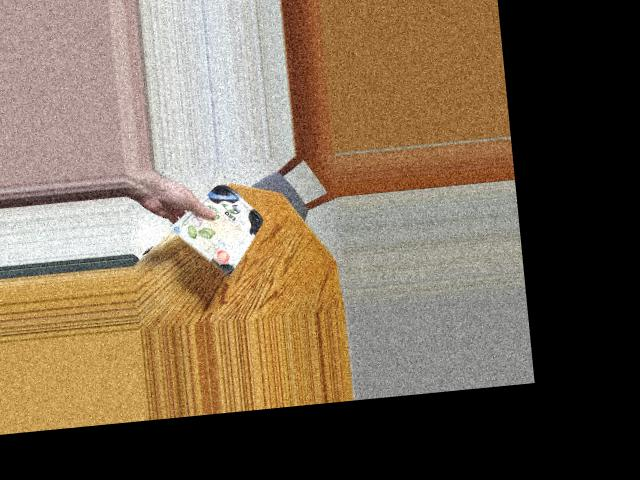cheese: (183, 181, 258, 267)
